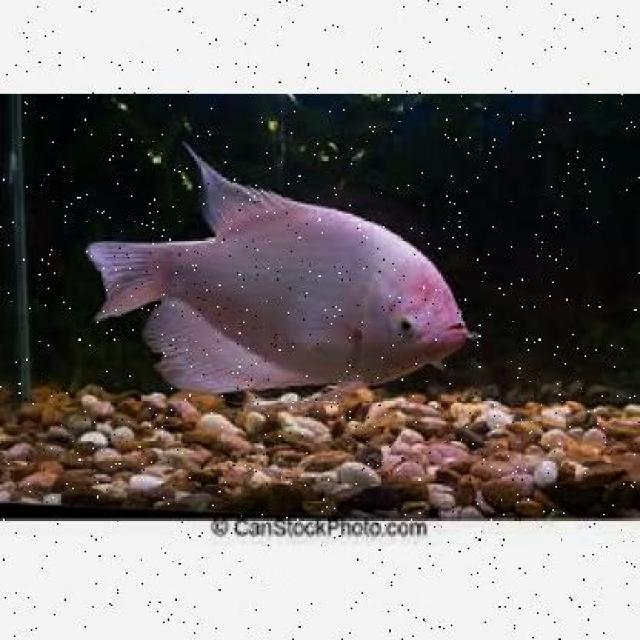gurame: (106, 164, 479, 393)
